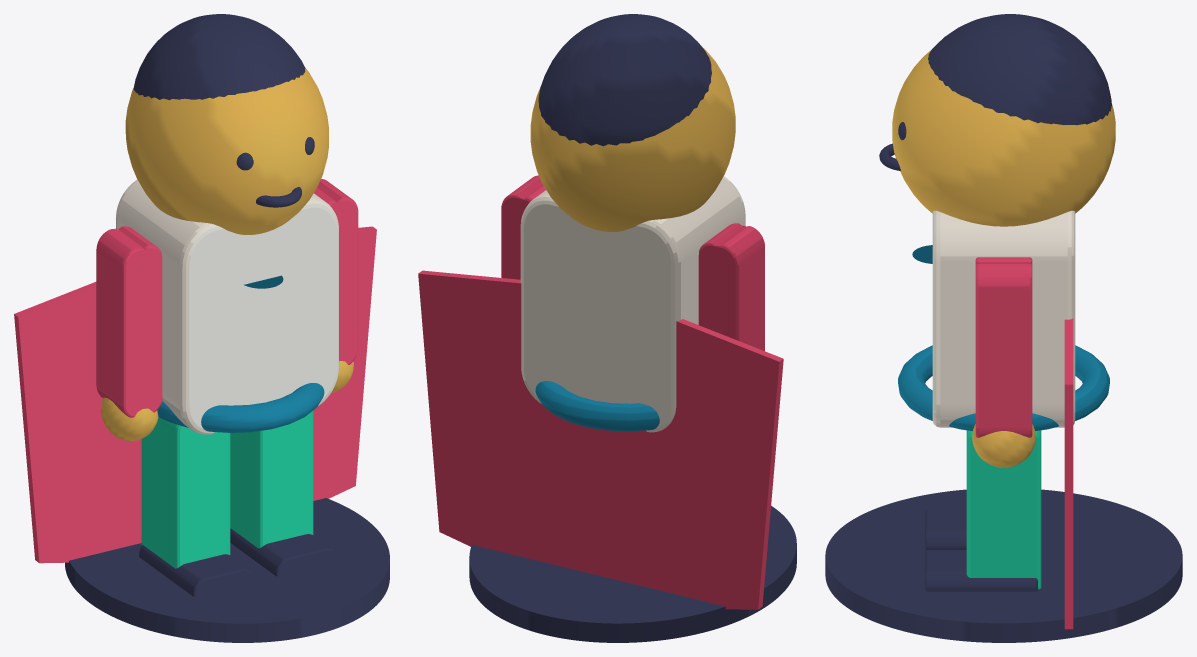
The model's file is 1078_古文观止_唐太宗.glb.
3 renders of one model, left to right at view 1: azimuth 30°, elevation 25°; view 2: azimuth 150°, elevation 25°; view 3: azimuth 270°, elevation 25°, orthographic.
Visible parts, largest first — view 1: card_1078; view 2: card_1078; view 3: card_1078.
Boxes of the visible parts, bbox=[...] form: card_1078: bbox=[14, 14, 389, 642]; card_1078: bbox=[418, 14, 796, 642]; card_1078: bbox=[825, 14, 1182, 642].
Size of the model in its own units: 0.6739 by 1 by 0.5724.
